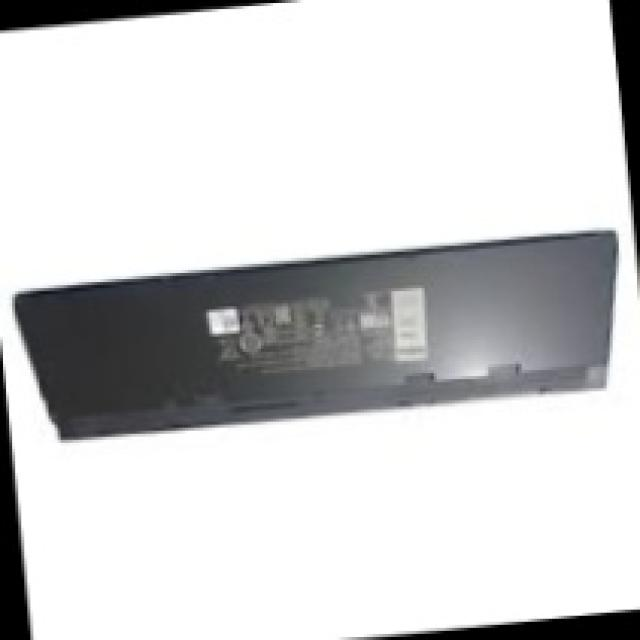elektronik: (15, 217, 620, 447)
